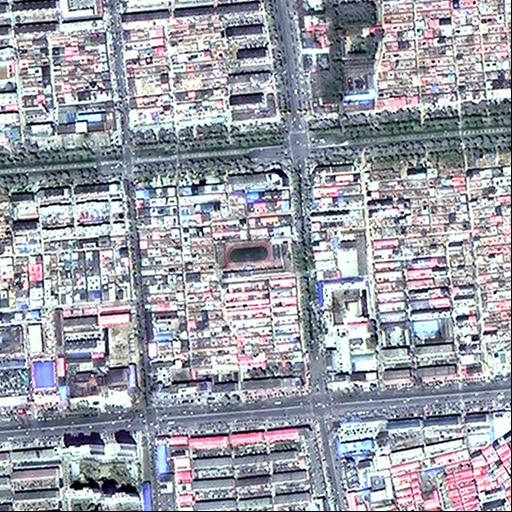school: (217, 237, 293, 278)
